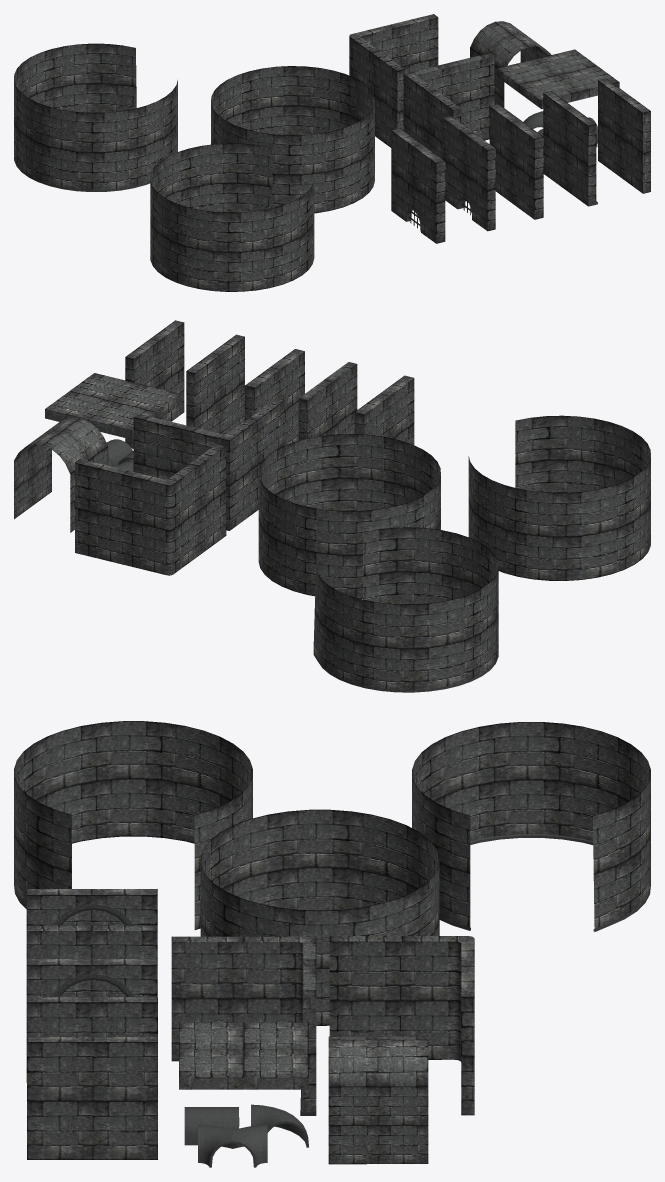
File: Walls.fbx
3 renders of one model, top to bottom at view 1: azimuth 30°, elevation 25°; view 2: azimuth 150°, elevation 25°; view 3: azimuth 270°, elevation 25°, orthographic. The views are drawn at different scales.
Visible parts, largest first — view 1: Wall_A_Roundabout, Wall_B_Roundabout, Roundabout_Continuation, Wall_B_Corner, Wall_A_Corner, Wall_B, Wall_E, Wall_A, Wall_C, Wall_D, Ceiling, Dungeon_Tunnel_A; view 2: Wall_B_Roundabout, Wall_A_Roundabout, Roundabout_Continuation, Wall_A_Corner, Wall_B_Corner, Ceiling, Dungeon_Tunnel_A, Wall_B, Wall_A, Wall_D, Wall_C, Wall_E; view 3: Wall_B_Roundabout, Roundabout_Continuation, Wall_A_Roundabout, Wall_A_Corner, Wall_A, Wall_B_Corner, Dungeon_Tunnel_A, Ceiling, Wall_B, Wall_C, Wall_E, Wall_D (+3 smaller).
Boxes of the visible parts, x1,y1,x2,y2 form: Wall_A_Roundabout: [150, 143, 314, 291]; Wall_B_Roundabout: [14, 43, 177, 191]; Roundabout_Continuation: [211, 66, 374, 213]; Wall_B_Corner: [403, 53, 494, 158]; Wall_A_Corner: [349, 14, 438, 147]; Wall_B: [543, 91, 597, 206]; Wall_E: [391, 128, 445, 243]; Wall_A: [598, 78, 650, 193]; Wall_C: [489, 104, 543, 219]; Wall_D: [442, 115, 495, 231]; Ceiling: [497, 49, 619, 109]; Dungeon_Tunnel_A: [470, 21, 551, 107]; Wall_B_Roundabout: [313, 527, 498, 692]; Wall_A_Roundabout: [468, 415, 650, 580]; Roundabout_Continuation: [258, 434, 440, 598]; Wall_A_Corner: [75, 443, 226, 575]; Wall_B_Corner: [133, 398, 284, 530]; Ceiling: [45, 373, 180, 439]; Dungeon_Tunnel_A: [14, 417, 108, 532]; Wall_B: [186, 334, 244, 434]; Wall_A: [125, 320, 184, 448]; Wall_D: [298, 362, 357, 440]; Wall_C: [245, 349, 304, 445]; Wall_E: [354, 375, 414, 444]; Wall_B_Roundabout: [412, 722, 650, 931]; Roundabout_Continuation: [200, 809, 439, 1025]; Wall_A_Roundabout: [14, 721, 252, 929]; Wall_A_Corner: [329, 936, 474, 1115]; Wall_A: [27, 1037, 157, 1159]; Wall_B_Corner: [171, 936, 316, 1115]; Dungeon_Tunnel_A: [328, 1036, 428, 1164]; Ceiling: [179, 1022, 308, 1089]; Wall_B: [27, 997, 157, 1036]; Wall_C: [26, 959, 157, 1082]; Wall_E: [26, 889, 157, 925]; Wall_D: [26, 925, 157, 958].
Size of the model in its own units: 35.59 by 5.86 by 28.46.
